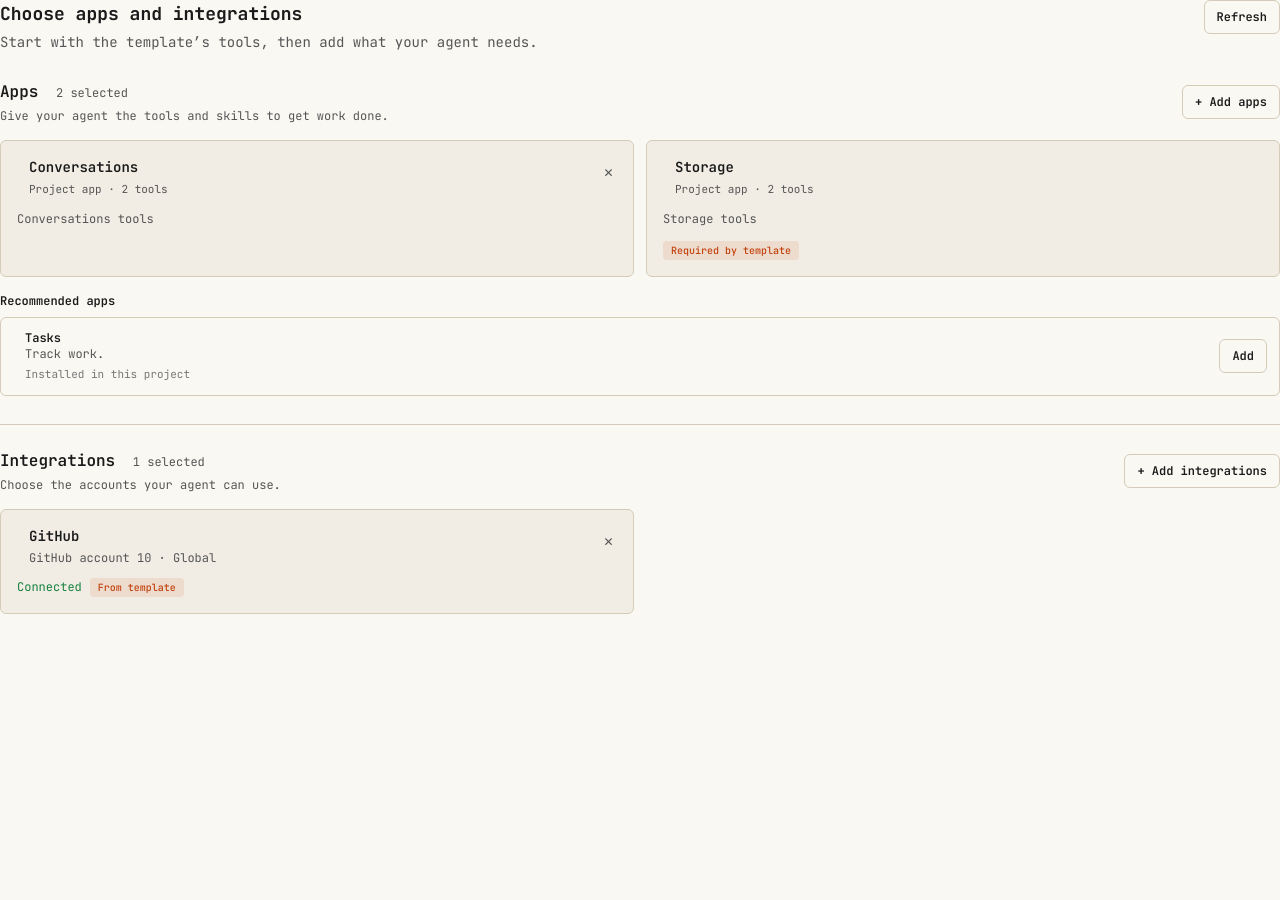
Test: shows selections and manifest recommendations, keeps the full app inventory inside a searchable picker
The image size is (1280, 900).
Expected: the heading "Conversations" is shown, [29,158,138,176]
Expected: the heading "Storage" is shown, [675,158,734,176]
Click the button with aria-label "Add Tasks": [1243, 356] box [1219,339,1267,373]
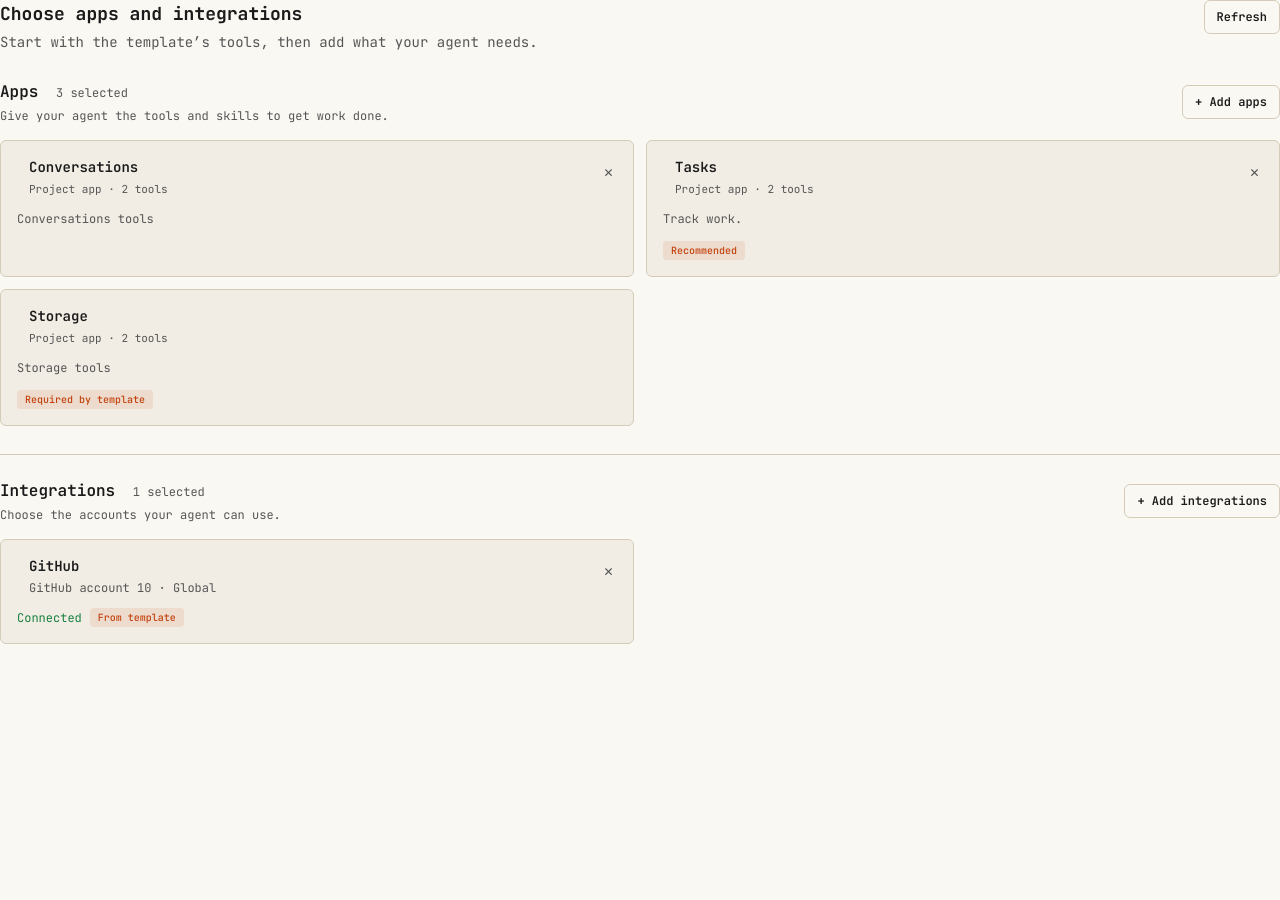
Expected: the heading "Tasks" is shown, [675,158,717,176]
Click the button named "Remove Tasks": [1254, 172] box [1246,157,1263,188]
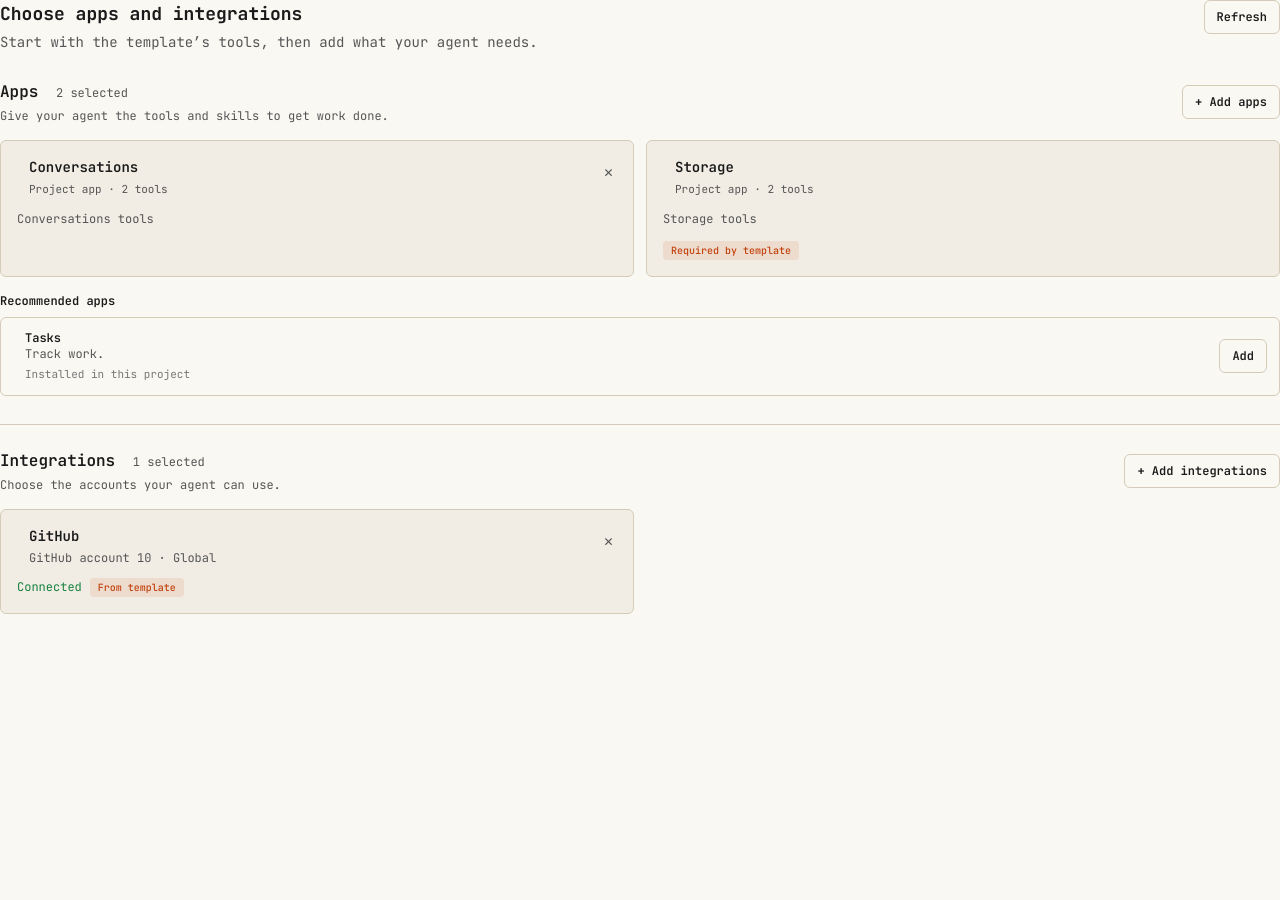
Expected: the button with aria-label "Add Tasks" is shown, [1219,339,1267,373]
Click the button "+ Add apps": [1231, 102] box [1182,85,1279,119]
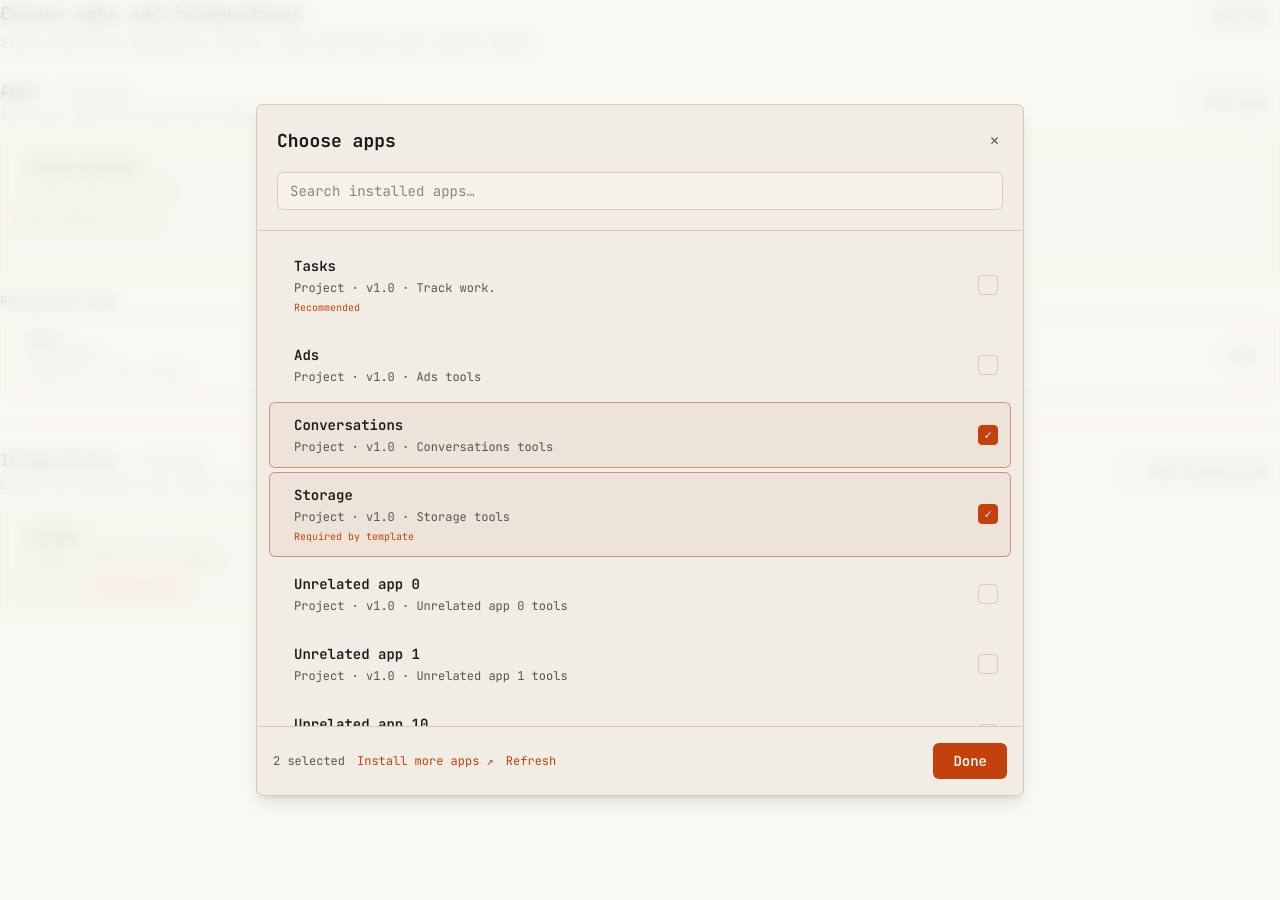
Expected: the checkbox labelled "Storage" is disabled, [269,472,1011,557]
In the search field: [640, 191] box [277,172,1003,210], type "unrelated app 90"
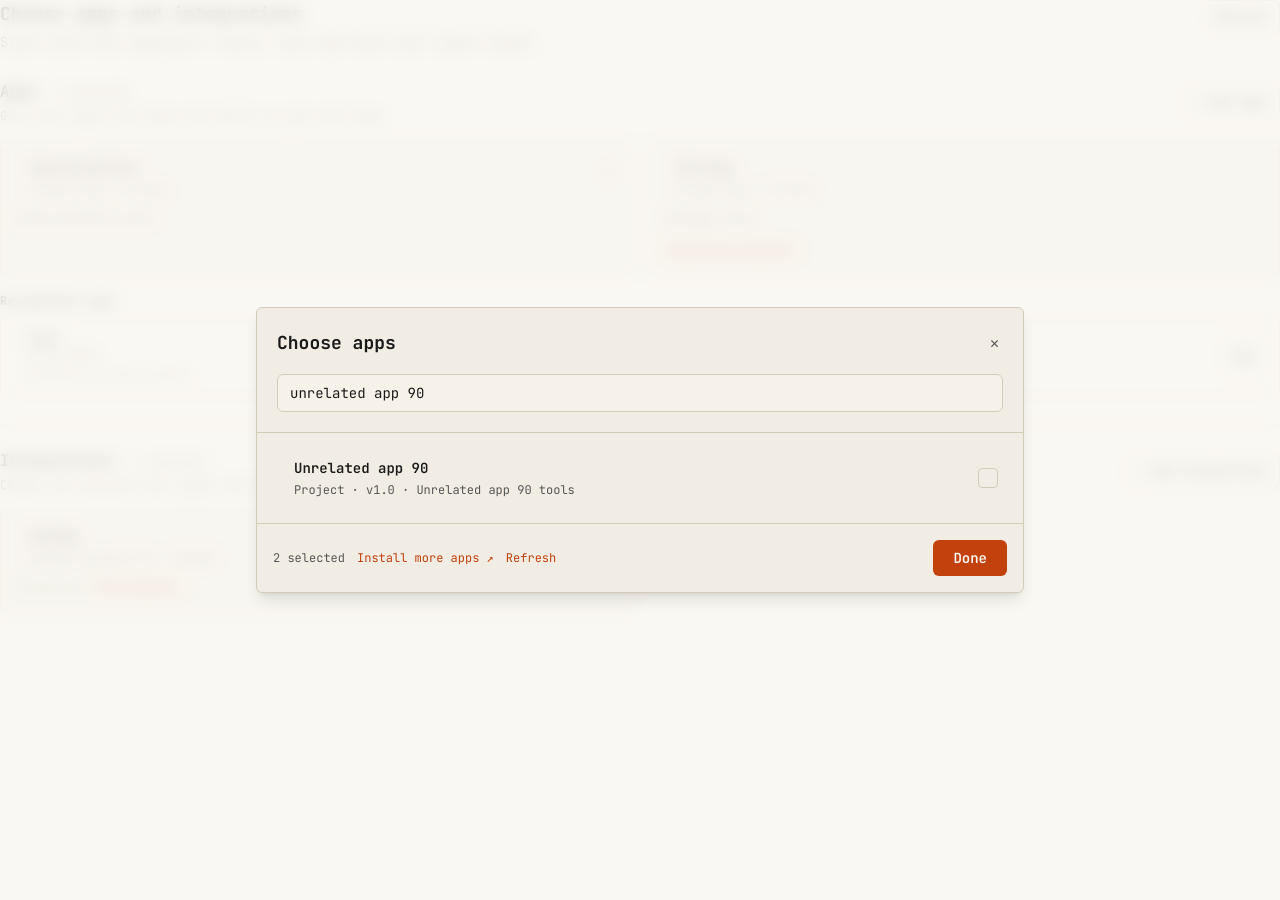
Expected: the number of checkboxes is 1
Click the checkbox labelled "Unrelated app 90 Project · v1.0 · Unrelated app 90 tools": [361, 468] box [269,445,1011,511]
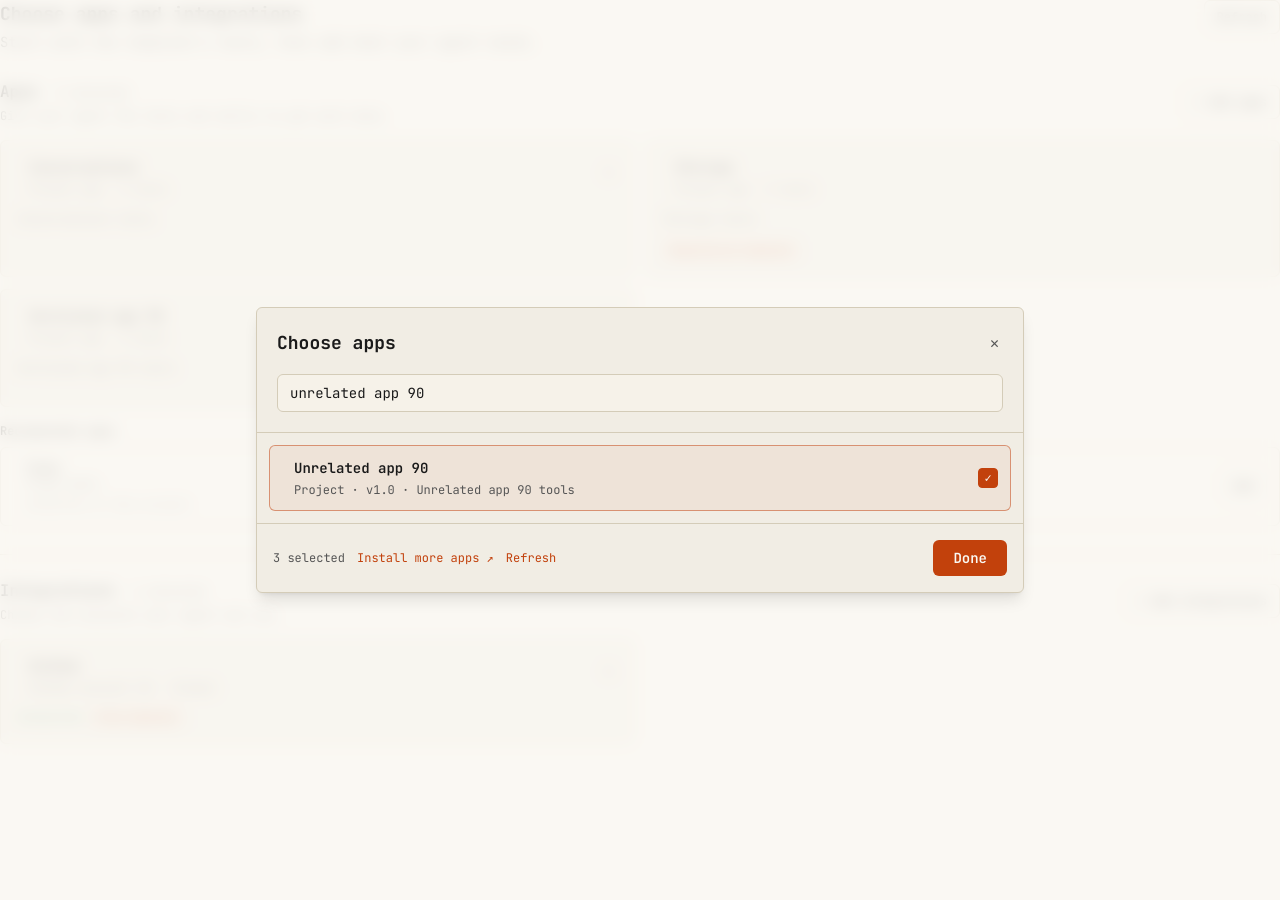
Click the button "Done": [970, 558] box [933,540,1007,576]
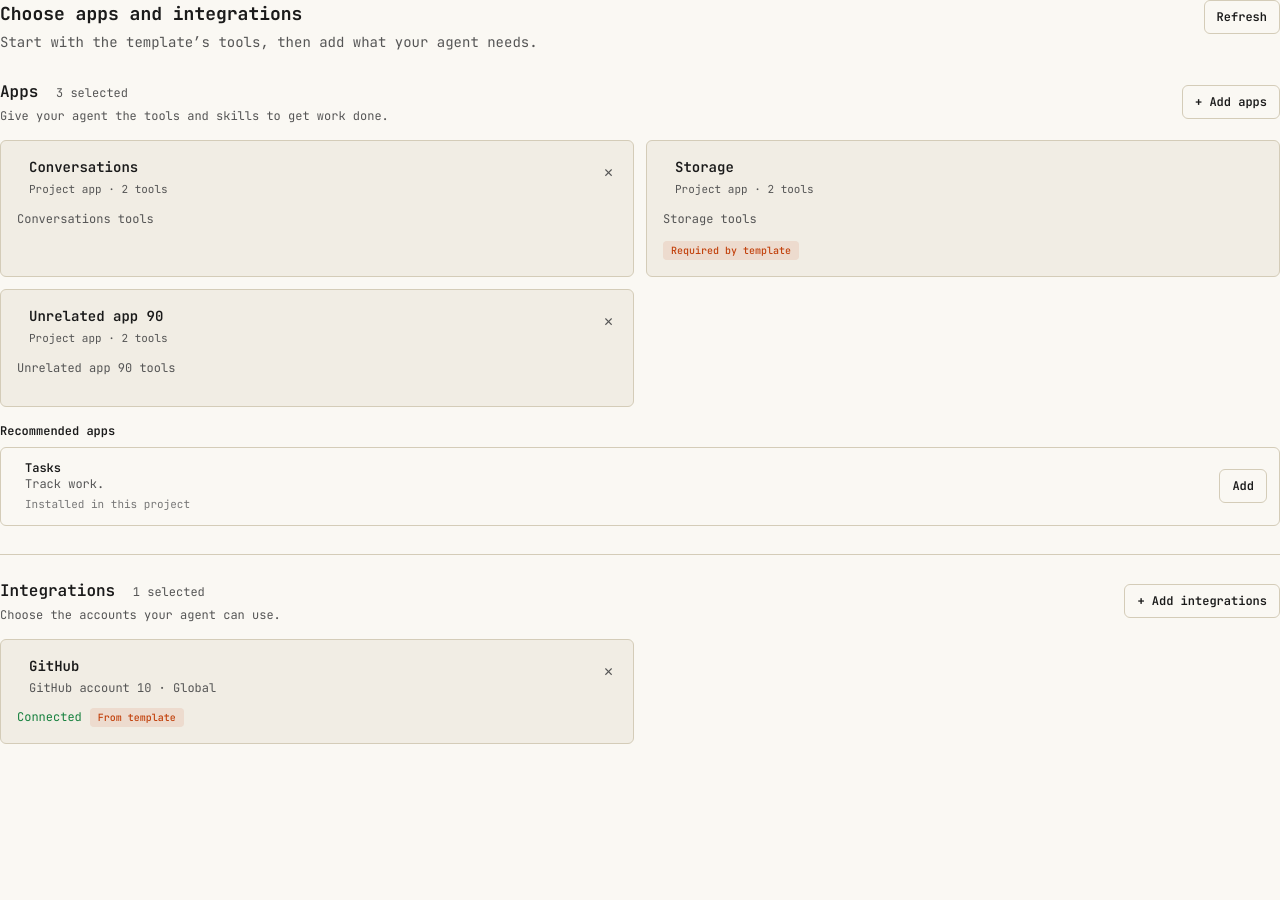
Expected: the heading "Unrelated app 90" is shown, [29,307,163,325]
Expected: the dialog is gone
